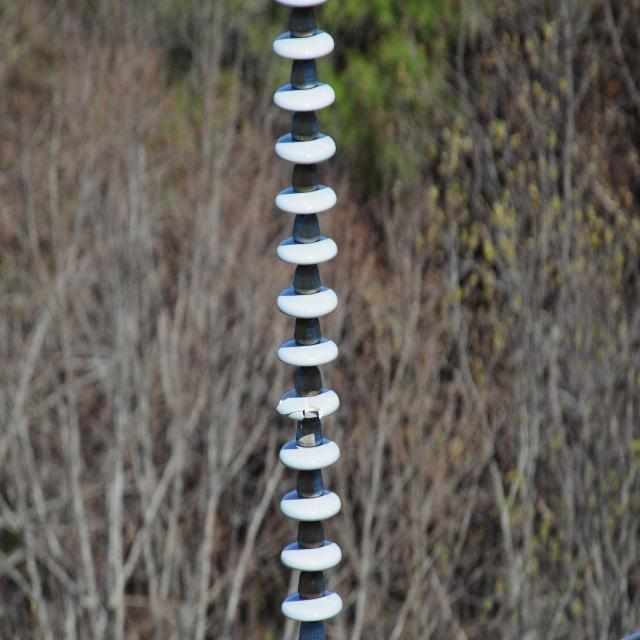broken: (280, 399, 327, 422)
insulator: (273, 29, 343, 622)
